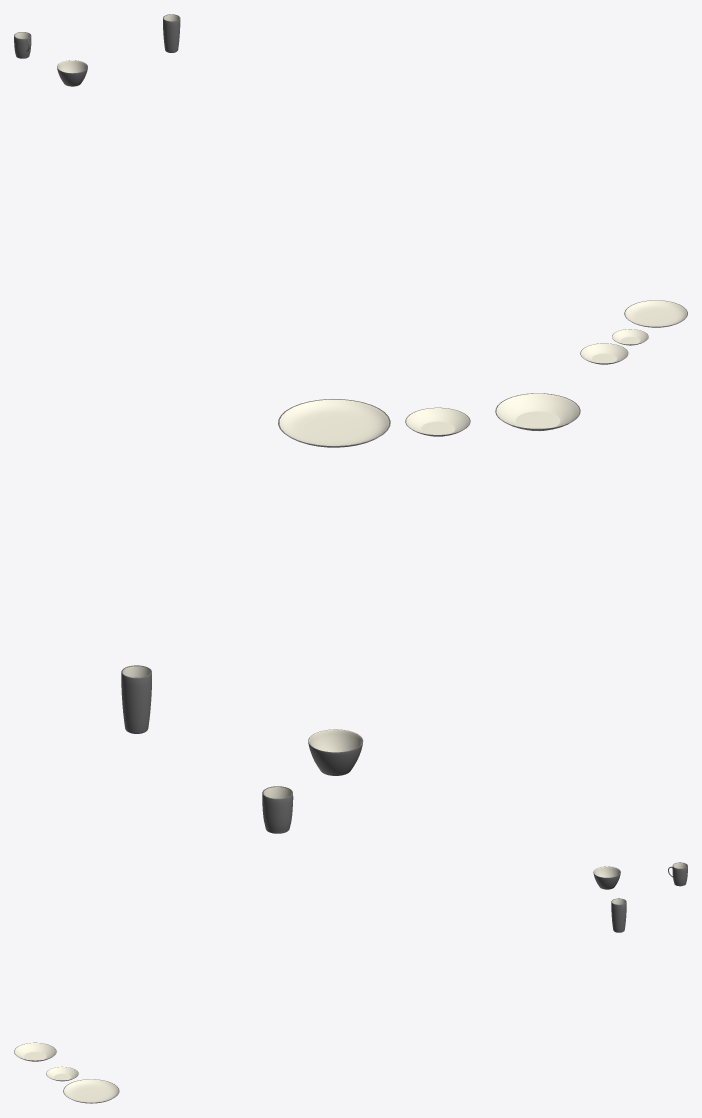
File: CeramicsWhole.fbx
3 renders of one model, top to bottom at view 1: azimuth 30°, elevation 25°; view 2: azimuth 150°, elevation 25°; view 3: azimuth 270°, elevation 25°, orthographic. The views are drawn at different scales.
Parts seen in each view (by area): view 1: Plate_Large, Plate_Medium, Bowl, Glass; view 2: Plate_Large, Plate_Medium, Bowl, Glass, Plate_Small, Cup; view 3: Plate_Large, Plate_Medium, Bowl, Glass, Plate_Small.
Part boxes in pixels (x1,y1,x2,y2): Plate_Large: (624, 300, 687, 327); Plate_Medium: (580, 343, 628, 364); Bowl: (57, 60, 87, 86); Glass: (163, 14, 180, 52); Plate_Large: (278, 399, 390, 447); Plate_Medium: (495, 393, 580, 431); Bowl: (308, 729, 363, 775); Glass: (121, 665, 151, 733); Plate_Small: (405, 407, 470, 436); Cup: (262, 786, 293, 833); Plate_Large: (63, 1079, 119, 1103); Plate_Medium: (14, 1042, 56, 1061); Bowl: (593, 866, 620, 889); Glass: (611, 898, 626, 932); Plate_Small: (46, 1066, 78, 1081).
Bounding box in the file's own units: 219 × 40.69 × 111.
